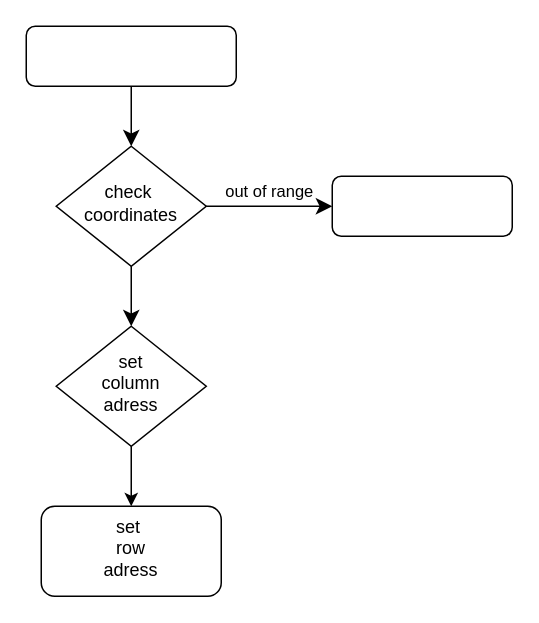
This 539x623 diagram has some shape labels left out. Each missing label, with the box of its shape:
ST7735S_ERROR: (331, 175, 512, 236)
st7735s_set_window(): (25, 25, 236, 86)
